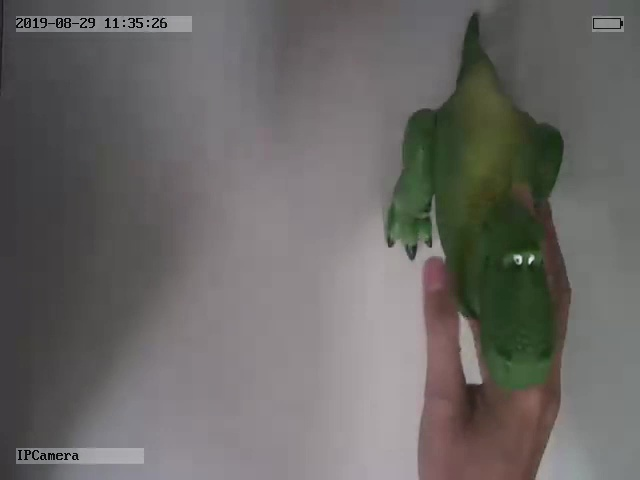rex: (385, 12, 564, 390)
